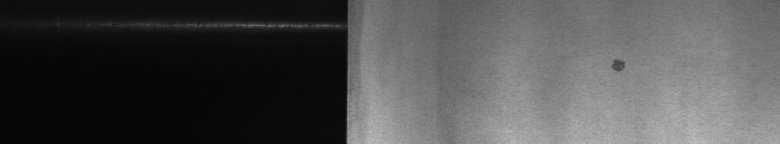fi: (608, 51, 628, 80)
